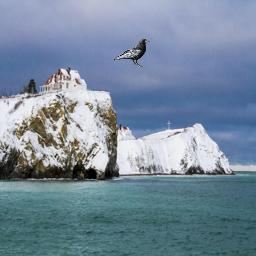Crow: (113, 38, 150, 67)
